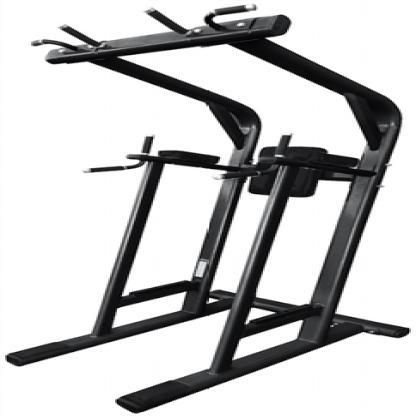chinning dipping: (13, 5, 408, 410)
